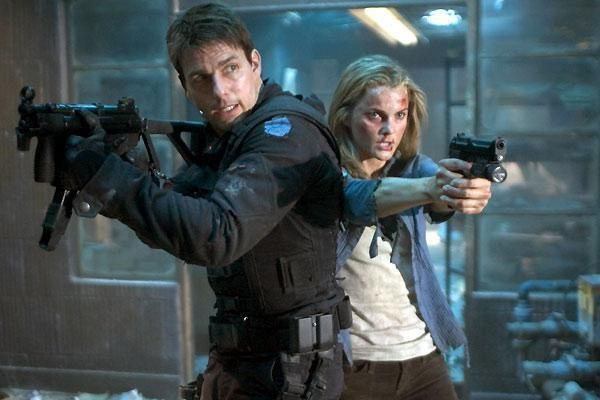gun: (14, 75, 196, 235), (441, 121, 517, 219)
uniform: (179, 117, 339, 378)
